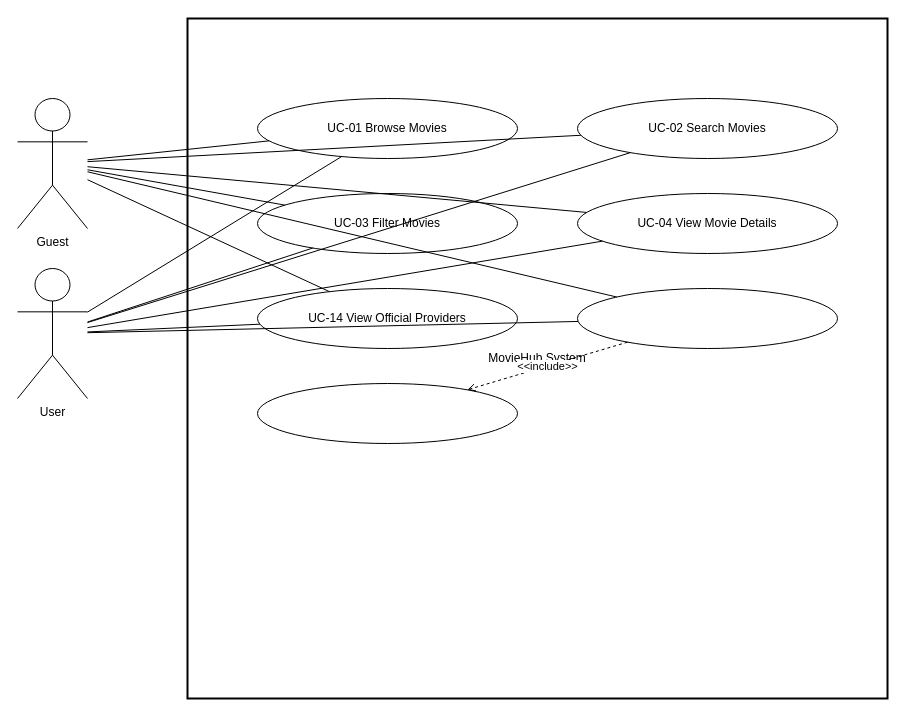
Image size: 906x716. Some labels were removed from this diagram. The shapes that lost their labels are listed below. From the top down, each one's centre as x and y in pixels, then its label:
At point 707,318: "UC-15 Redirect to Provider".
At point 387,413: "UC-16 Log Redirect Event".
